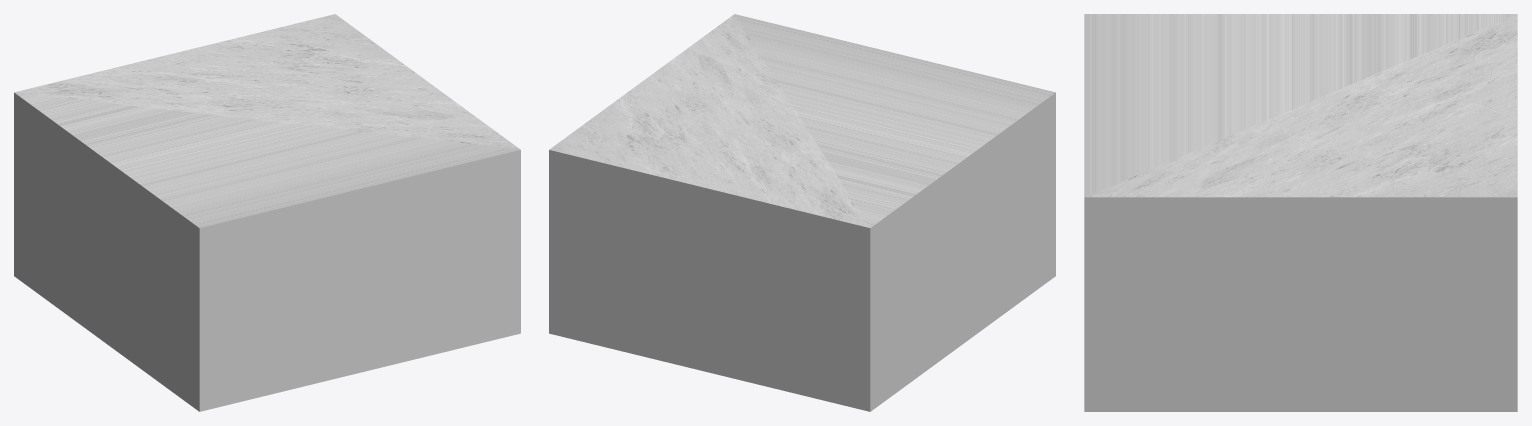
The model's file is museum_in_room.glb.
3 views of the same model, side by side, from view 1: azimuth 30°, elevation 25°; view 2: azimuth 150°, elevation 25°; view 3: azimuth 270°, elevation 25° (orthographic). The views are drawn at different scales.
Visible parts, largest first — view 1: Plane; view 2: Plane; view 3: Plane.
Part boxes in pixels (bbox=[...]): Plane: bbox=[14, 14, 520, 411]; Plane: bbox=[549, 14, 1055, 411]; Plane: bbox=[1084, 14, 1517, 411].
Bounding box in the file's own units: 24.04 × 13.14 × 24.04.
5 materials, 3 textured.
